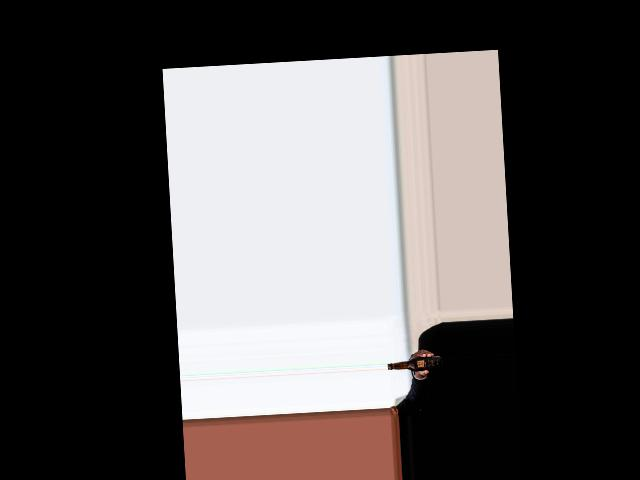beer: (387, 355, 443, 372)
